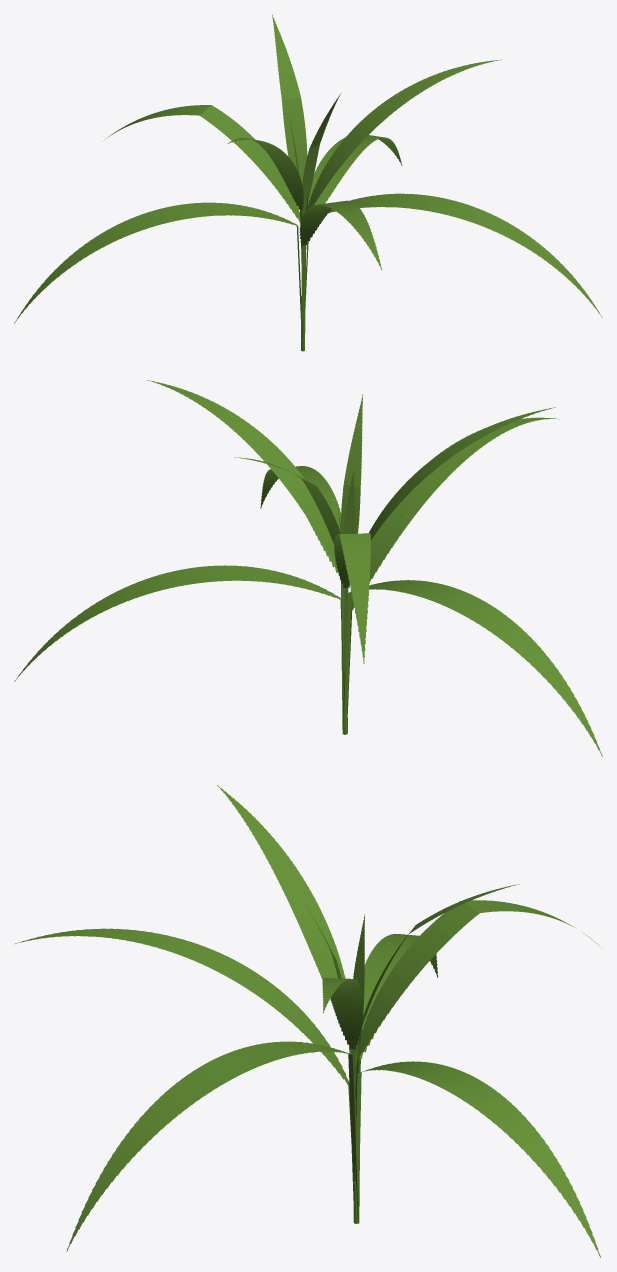
The model's file is maize_001_day_075.dae.
3 renders of one model, top to bottom at view 1: azimuth 30°, elevation 25°; view 2: azimuth 150°, elevation 25°; view 3: azimuth 270°, elevation 25°, orthographic. The views are drawn at different scales.
Parts seen in each view (by area): view 1: node; view 2: node; view 3: node.
Boxes of the visible parts, x1=… form: node: x1=14, y1=14, x2=602, y2=351; node: x1=14, y1=380, x2=602, y2=756; node: x1=14, y1=785, x2=602, y2=1257.
Bounding box in the file's own units: 1.22 × 0.7243 × 1.07.
1 material, 1 textured.
